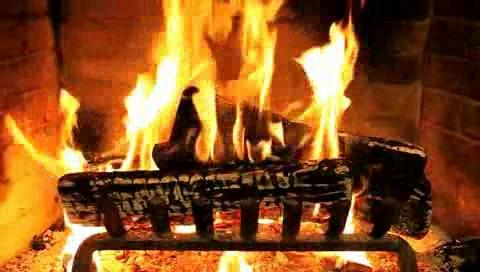fire: (123, 1, 357, 193)
